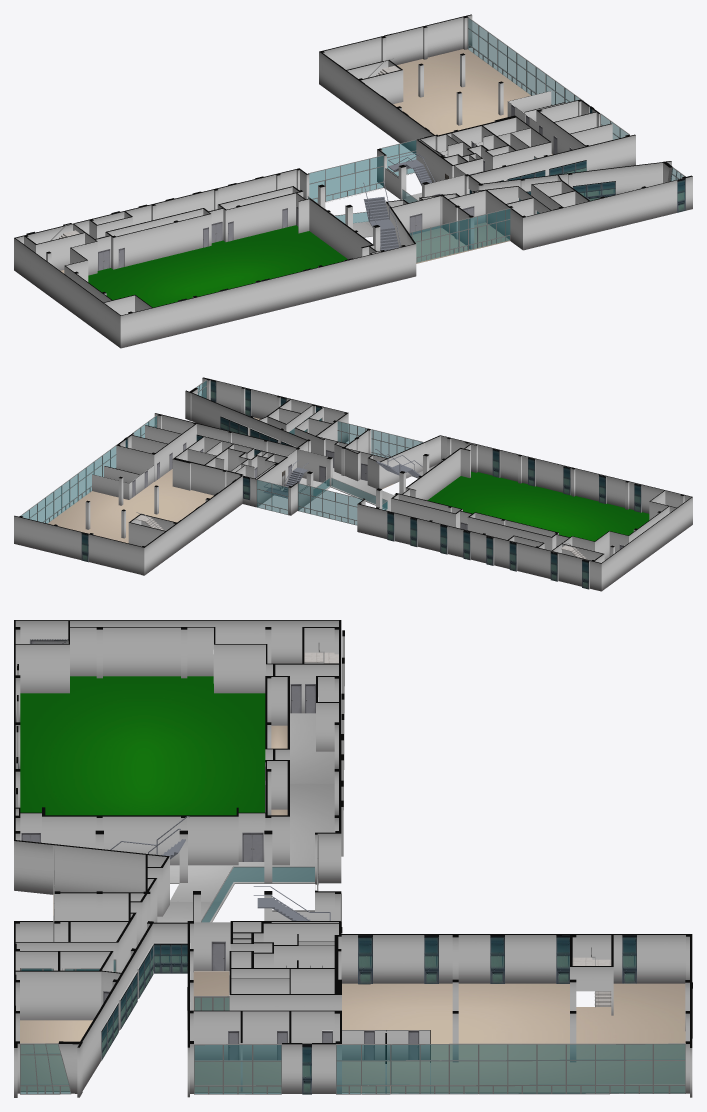
The model's file is soulbrain_T9-1-2F.glb.
3 renders of one model, top to bottom at view 1: azimuth 30°, elevation 25°; view 2: azimuth 150°, elevation 25°; view 3: azimuth 270°, elevation 25°, orthographic. The views are drawn at different scales.
Visible parts, largest first — view 1: Box1158, T-9-1-2F, Box968, Box1142, StraightStair011, StraightStair012; view 2: Box1158, T-9-1-2F, Box968, Box1142, StraightStair012, StraightStair011; view 3: Box1158, T-9-1-2F, Box968, Box1142.
Part boxes in pixels (left/top/right/bottom): Box1158: left=14, top=14, right=692, bottom=348; T-9-1-2F: left=60, top=49, right=552, bottom=307; Box968: left=26, top=17, right=685, bottom=301; Box1142: left=98, top=104, right=572, bottom=270; StraightStair011: left=363, top=180, right=400, bottom=250; StraightStair012: left=388, top=153, right=434, bottom=185; Box1158: left=14, top=377, right=692, bottom=591; T-9-1-2F: left=48, top=417, right=649, bottom=543; Box968: left=20, top=379, right=641, bottom=589; Box1142: left=132, top=442, right=624, bottom=549; StraightStair012: left=264, top=460, right=308, bottom=498; StraightStair011: left=375, top=449, right=422, bottom=477; Box1158: left=14, top=620, right=692, bottom=1097; T-9-1-2F: left=20, top=676, right=685, bottom=1092; Box968: left=15, top=630, right=692, bottom=1094; Box1142: left=21, top=641, right=419, bottom=1060.
Bounding box in the file's own units: 82.74 × 7.11 × 55.51.
Materials: 21 (13 with a texture image).
